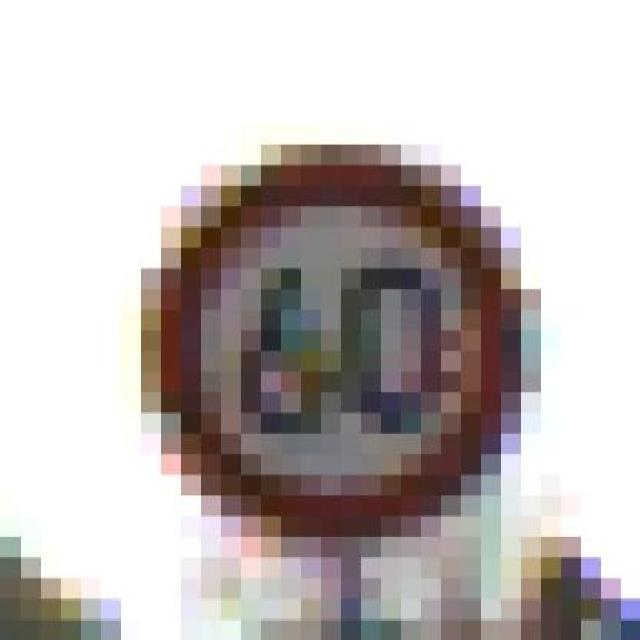forb_speed_over_60: (164, 153, 515, 535)
